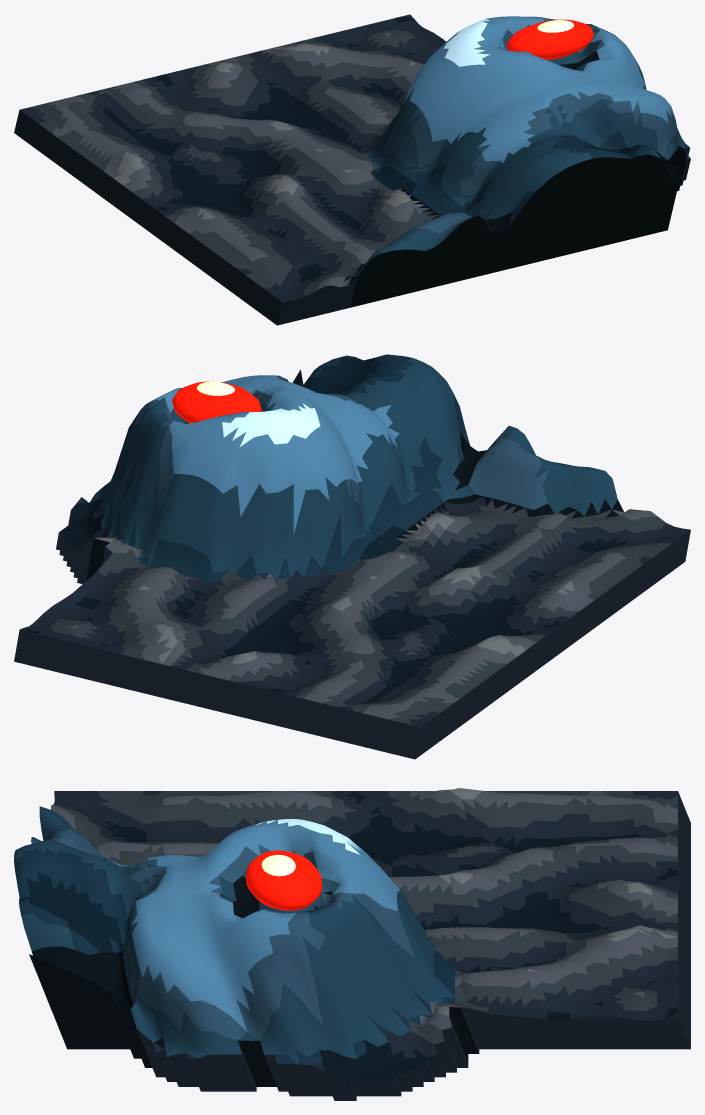
Rendered from gyges_lurker_tl_9.glb.
3 views of the same model, one above another, from view 1: azimuth 30°, elevation 25°; view 2: azimuth 150°, elevation 25°; view 3: azimuth 270°, elevation 25° (orthographic). The views are drawn at different scales.
Visible parts, largest first — view 1: gyges_lurker_tl_9; view 2: gyges_lurker_tl_9; view 3: gyges_lurker_tl_9.
Part boxes in pixels (x1=…): gyges_lurker_tl_9: x1=14, y1=14, x2=690, y2=325; gyges_lurker_tl_9: x1=14, y1=354, x2=690, y2=759; gyges_lurker_tl_9: x1=14, y1=788, x2=690, y2=1100.
Bounding box in the file's own units: 29.5 × 8.66 × 30.39.
